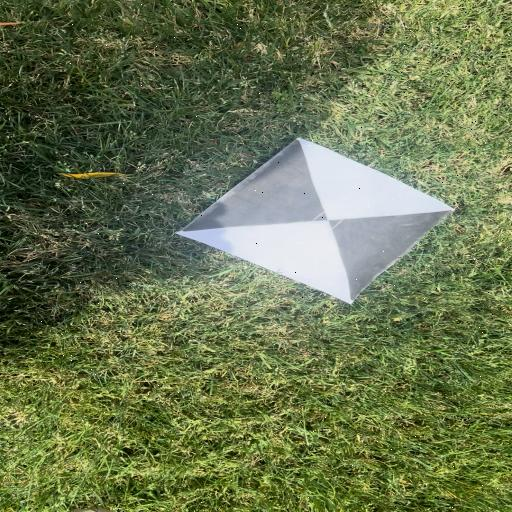target: (174, 138, 456, 305)
